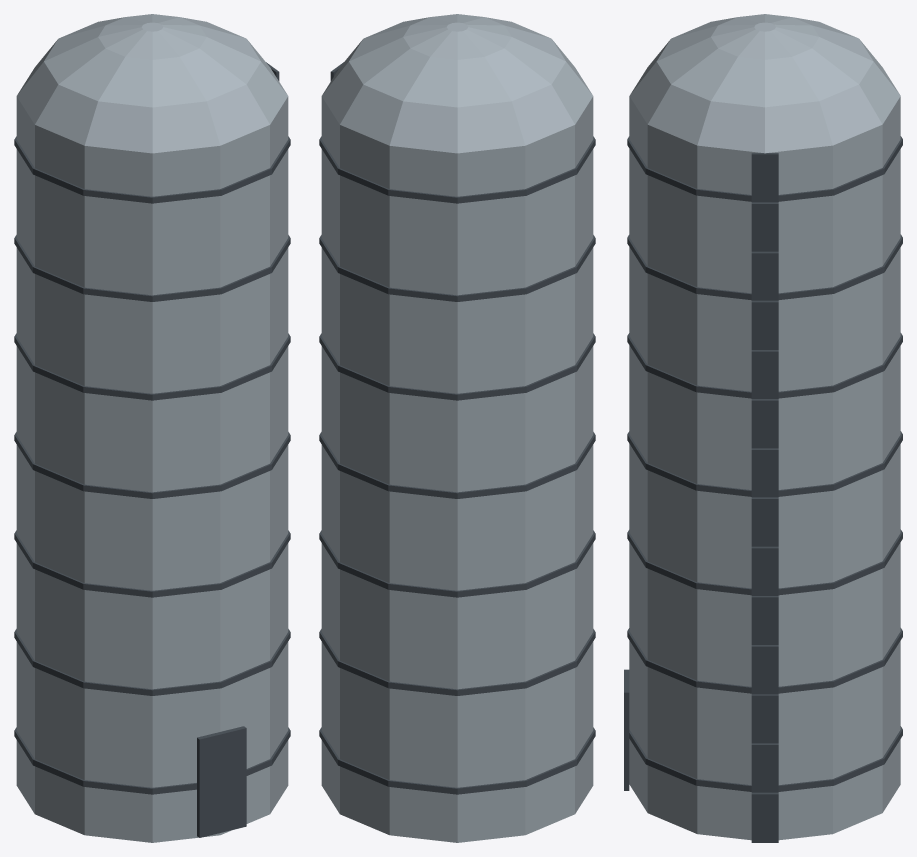
The model's file is FM_Silo_01.glb.
3 views of the same model, side by side, from view 1: azimuth 30°, elevation 25°; view 2: azimuth 150°, elevation 25°; view 3: azimuth 270°, elevation 25° (orthographic).
Parts seen in each view (by area): view 1: FM_Silo_01; view 2: FM_Silo_01; view 3: FM_Silo_01.
Part boxes in pixels (bbox=[...]): FM_Silo_01: bbox=[14, 14, 290, 842]; FM_Silo_01: bbox=[319, 14, 595, 842]; FM_Silo_01: bbox=[624, 14, 902, 842].
Bounding box in the file's own units: 5.16 × 15.4 × 5.14.
Materials: 1 (1 with a texture image).
